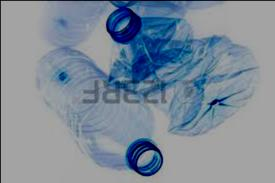Plastic: (102, 7, 263, 140), (33, 43, 164, 177)
